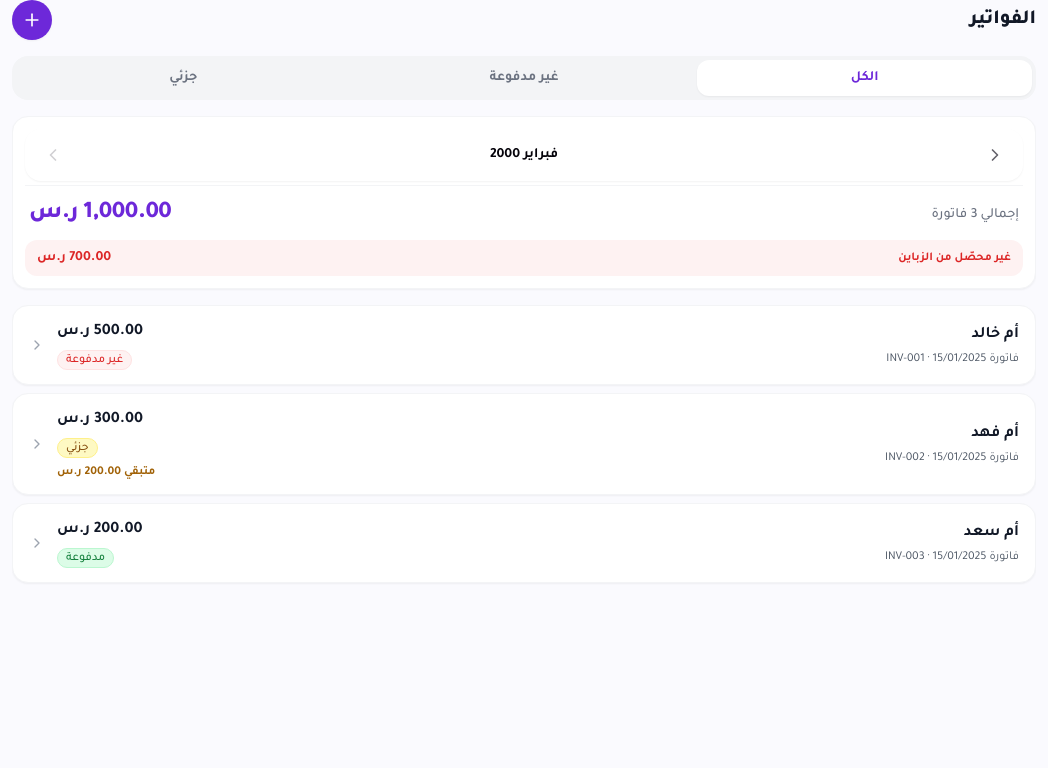
Test case: صفحة الفواتير (Invoices) › تبويبات الفلتر › تبويب 'جزئي' يعرض الفواتير الجزئية فقط
Expected: the text "أم خالد" is shown, [972,327,1019,343]
Click the button "جزئي".
click(183, 78)  # box [16,60,351,96]
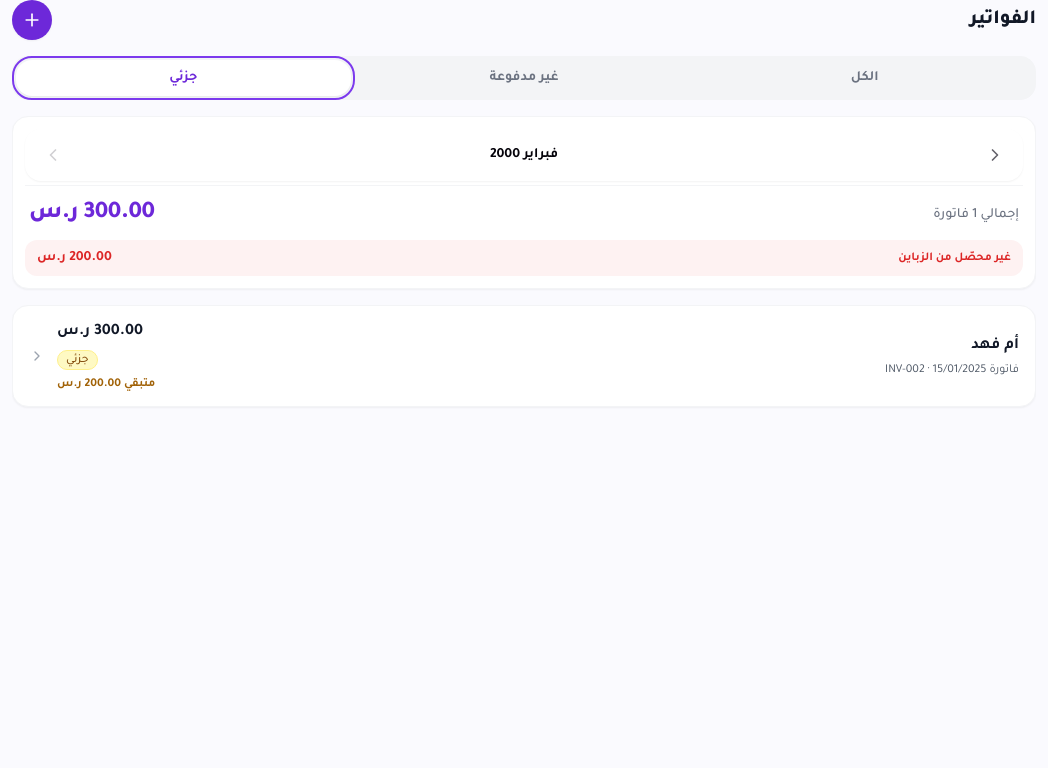
Expected: the text "أم فهد" is shown, [971,338,1019,354]
Now the link "أم خالد" is gone
Now the link "أم سعد" is gone
